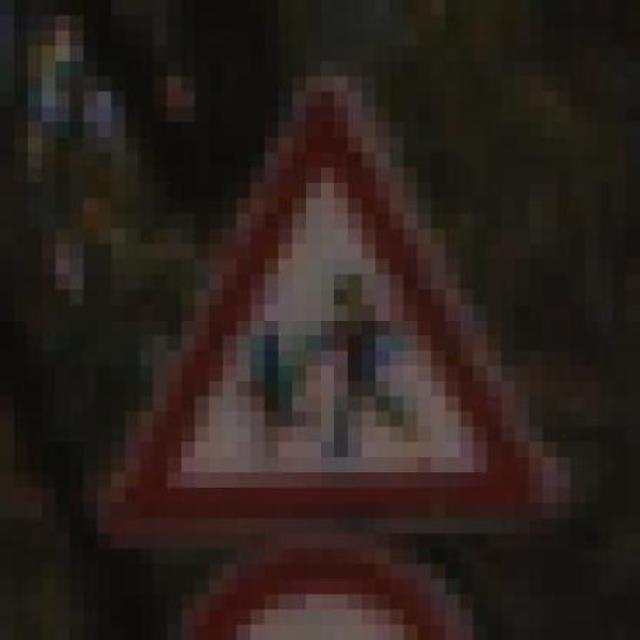Beware of children: (69, 61, 571, 564)
